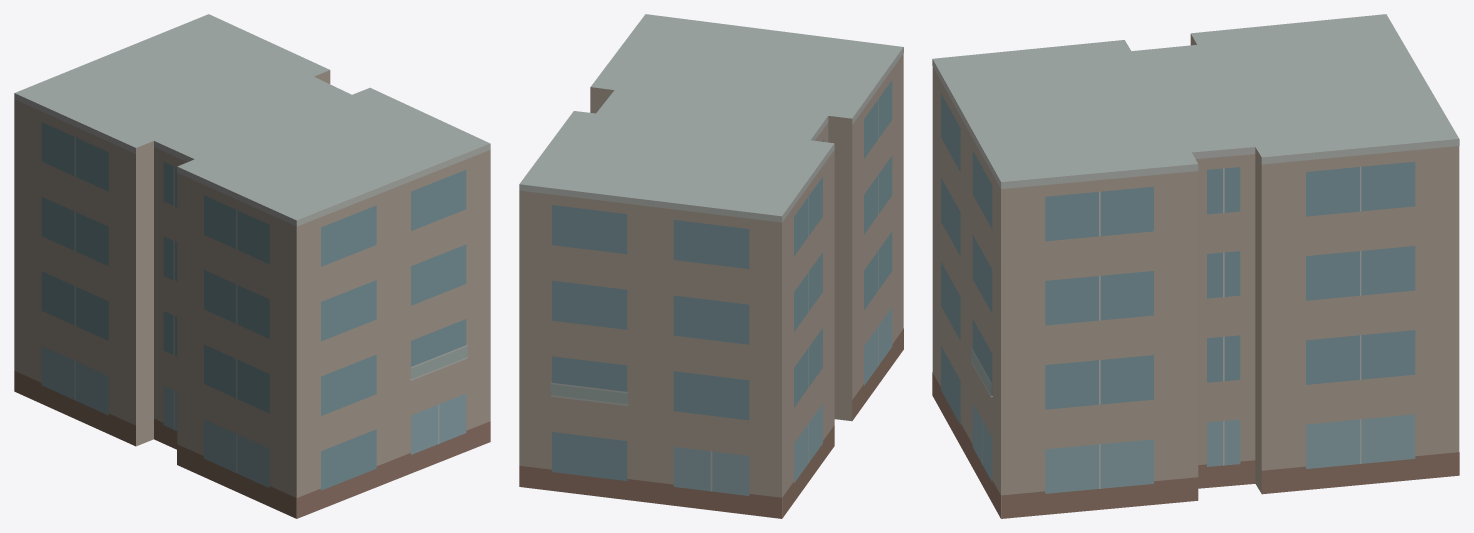
File: survey-upis-32918287.glb
The picture shows the model from 3 angles, left to right: view 1: azimuth 30°, elevation 25°; view 2: azimuth 150°, elevation 25°; view 3: azimuth 270°, elevation 25°; orthographic projection. The views are drawn at different scales.
Visible parts, largest first — view 1: survey-upis-32918287.tmp; view 2: survey-upis-32918287.tmp; view 3: survey-upis-32918287.tmp.
Part boxes in pixels (left/top/right/bottom): survey-upis-32918287.tmp: left=14, top=14, right=490, bottom=518; survey-upis-32918287.tmp: left=519, top=14, right=903, bottom=518; survey-upis-32918287.tmp: left=932, top=14, right=1459, bottom=518.
Bounding box in the file's own units: 12.54 × 11.7 × 16.61.
